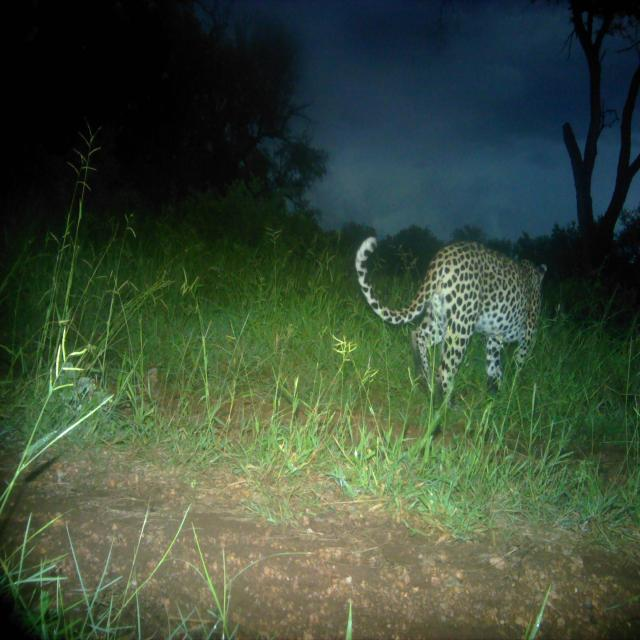Leopard: (348, 222, 562, 421)
